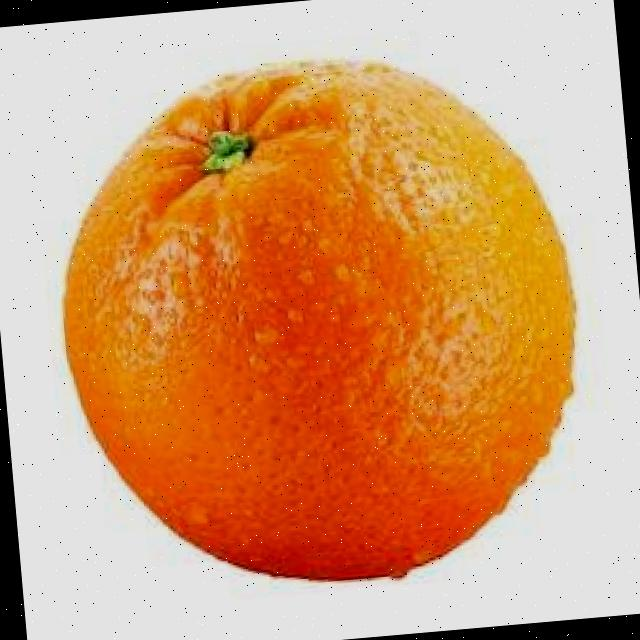Ripe: (35, 36, 601, 606)
